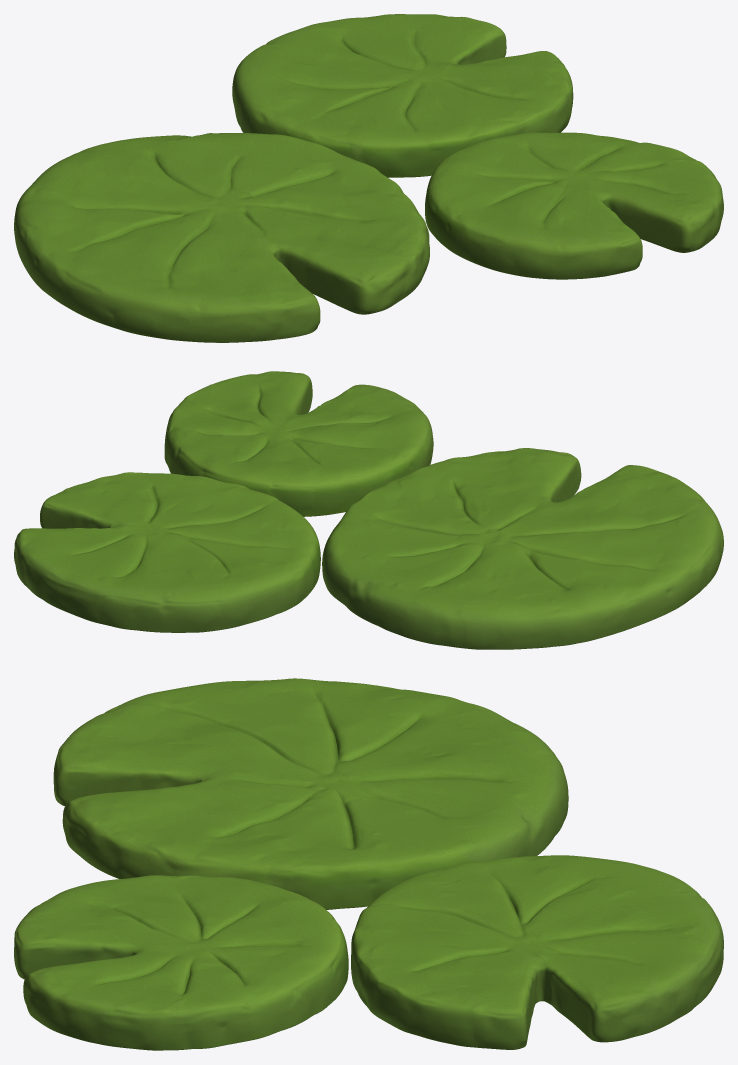
File: lily-pads.glb
The picture shows the model from 3 angles, top to bottom: view 1: azimuth 30°, elevation 25°; view 2: azimuth 150°, elevation 25°; view 3: azimuth 270°, elevation 25°; orthographic projection. The views are drawn at different scales.
Bounding box in the file's own units: 1.9 × 0.1121 × 1.67.
1 material, 1 textured.
